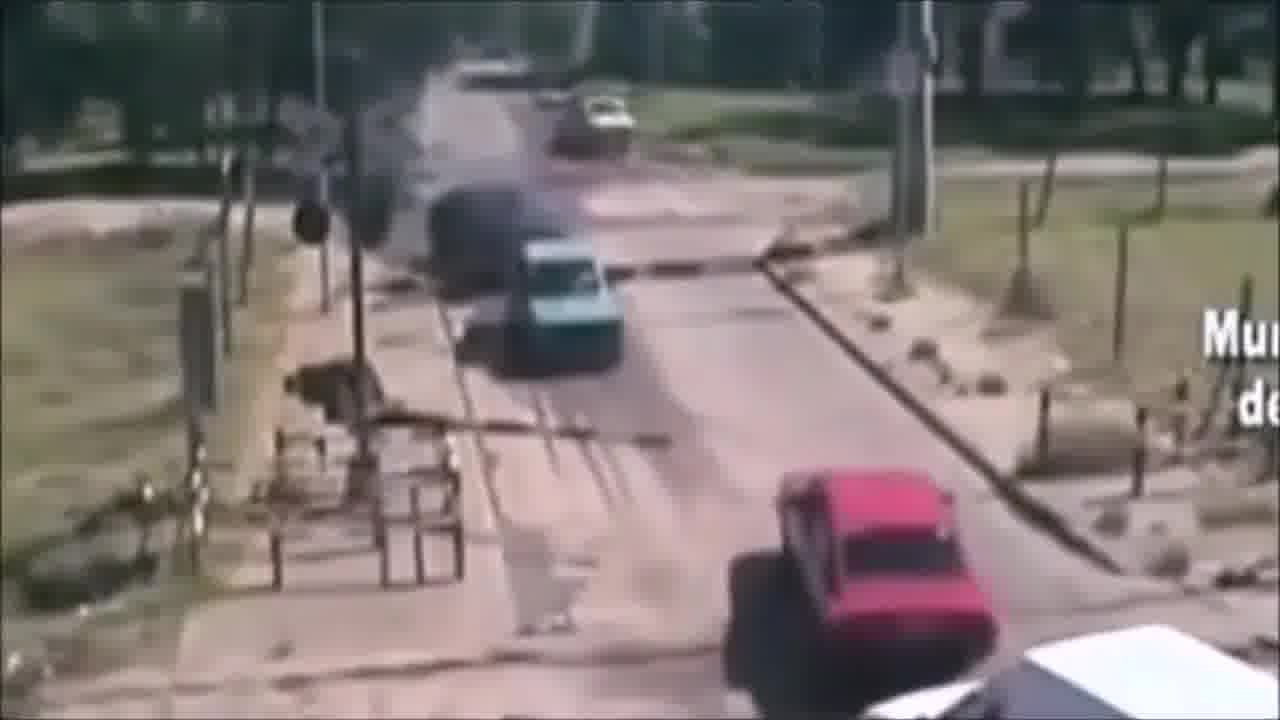crossing railway track: (739, 438, 1048, 720)
